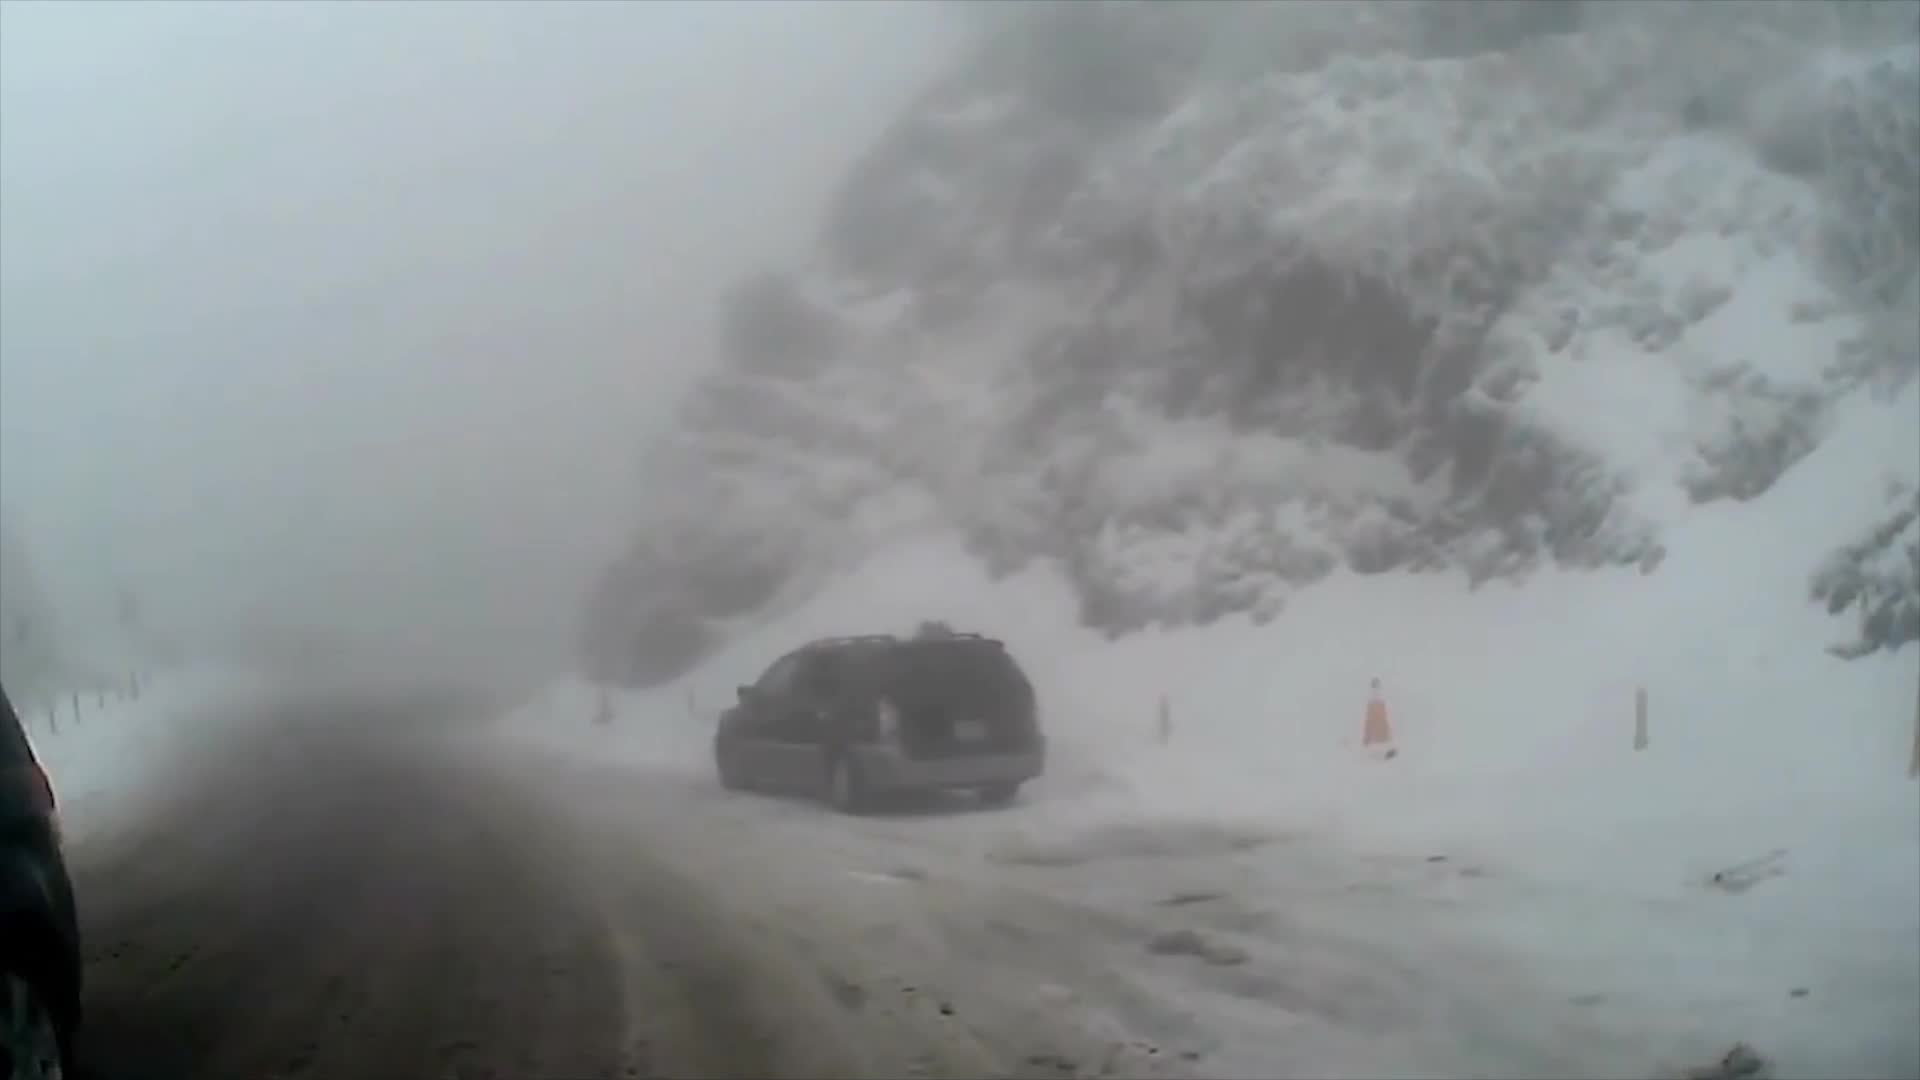vehicle: (712, 632, 1046, 812), (0, 680, 88, 1079)
